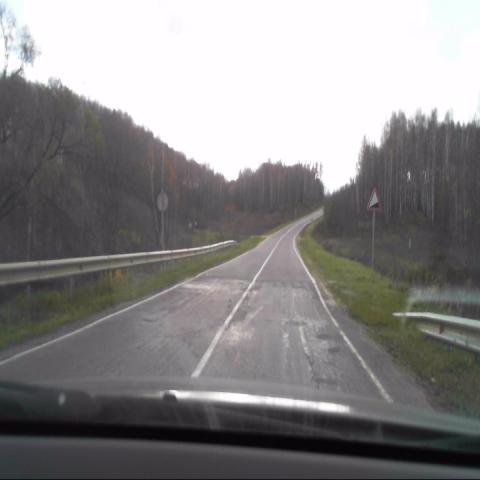1_14: (366, 187, 382, 212)
